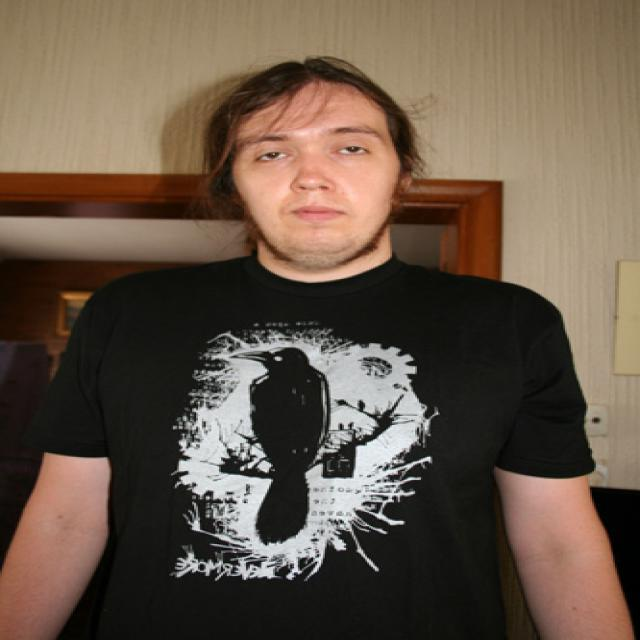short sleeve shirt: (33, 253, 602, 640)
